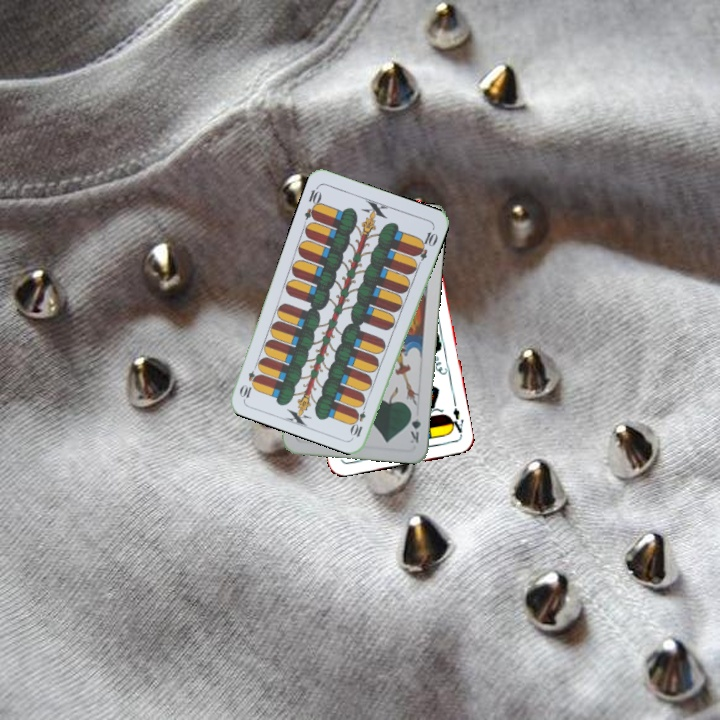E10: (300, 182, 324, 223), (348, 399, 369, 440)
EA: (445, 403, 466, 439)
GK: (406, 406, 424, 446)
